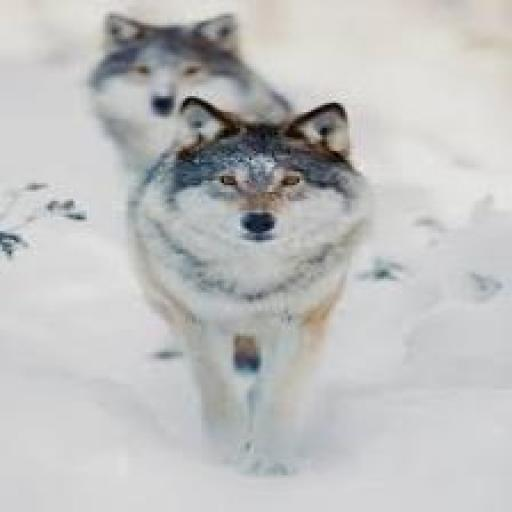wolf: (92, 96, 396, 490)
